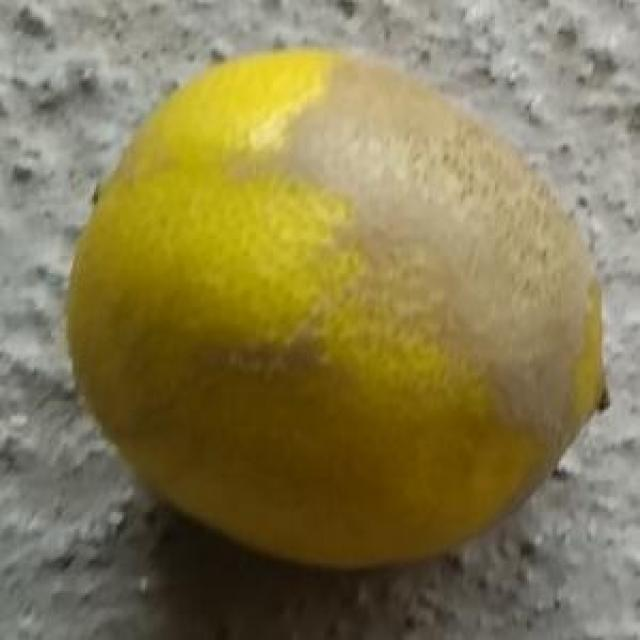lemon: (68, 48, 608, 574)
